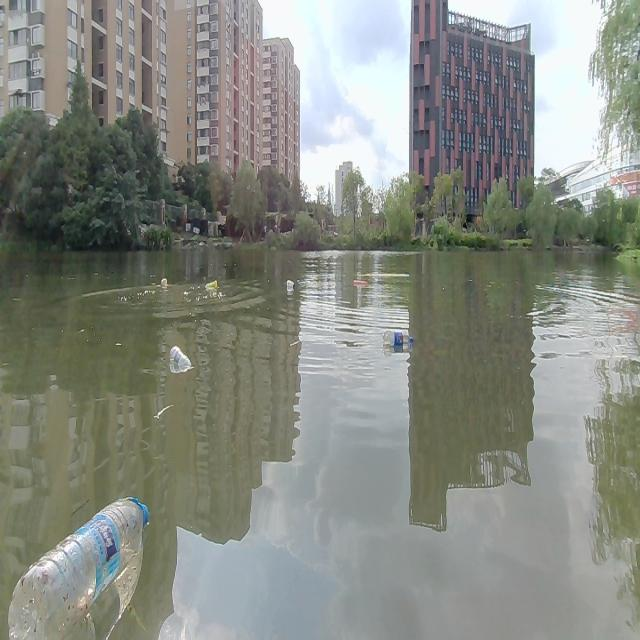bottle: (11, 493, 150, 639), (166, 344, 198, 377), (381, 324, 417, 349), (351, 276, 368, 290), (205, 279, 217, 294), (285, 278, 295, 291), (159, 276, 169, 286)
